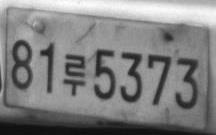1: (37, 42, 62, 93)
3: (174, 57, 199, 108), (119, 51, 143, 103)
5: (93, 48, 116, 99)
7: (147, 53, 171, 106)
8: (11, 37, 34, 91)
루: (63, 53, 86, 96)
